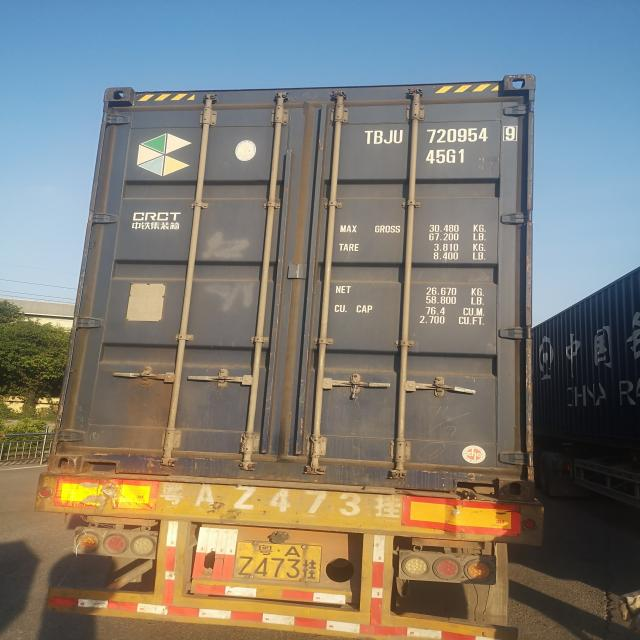seal: (352, 380, 358, 399)
